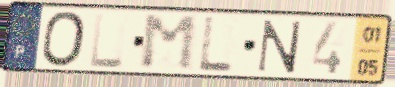4: (310, 19, 344, 77)
L: (195, 15, 236, 74), (88, 12, 126, 70)
M: (139, 14, 199, 73)
N: (254, 18, 304, 75)
O: (40, 10, 89, 69)
